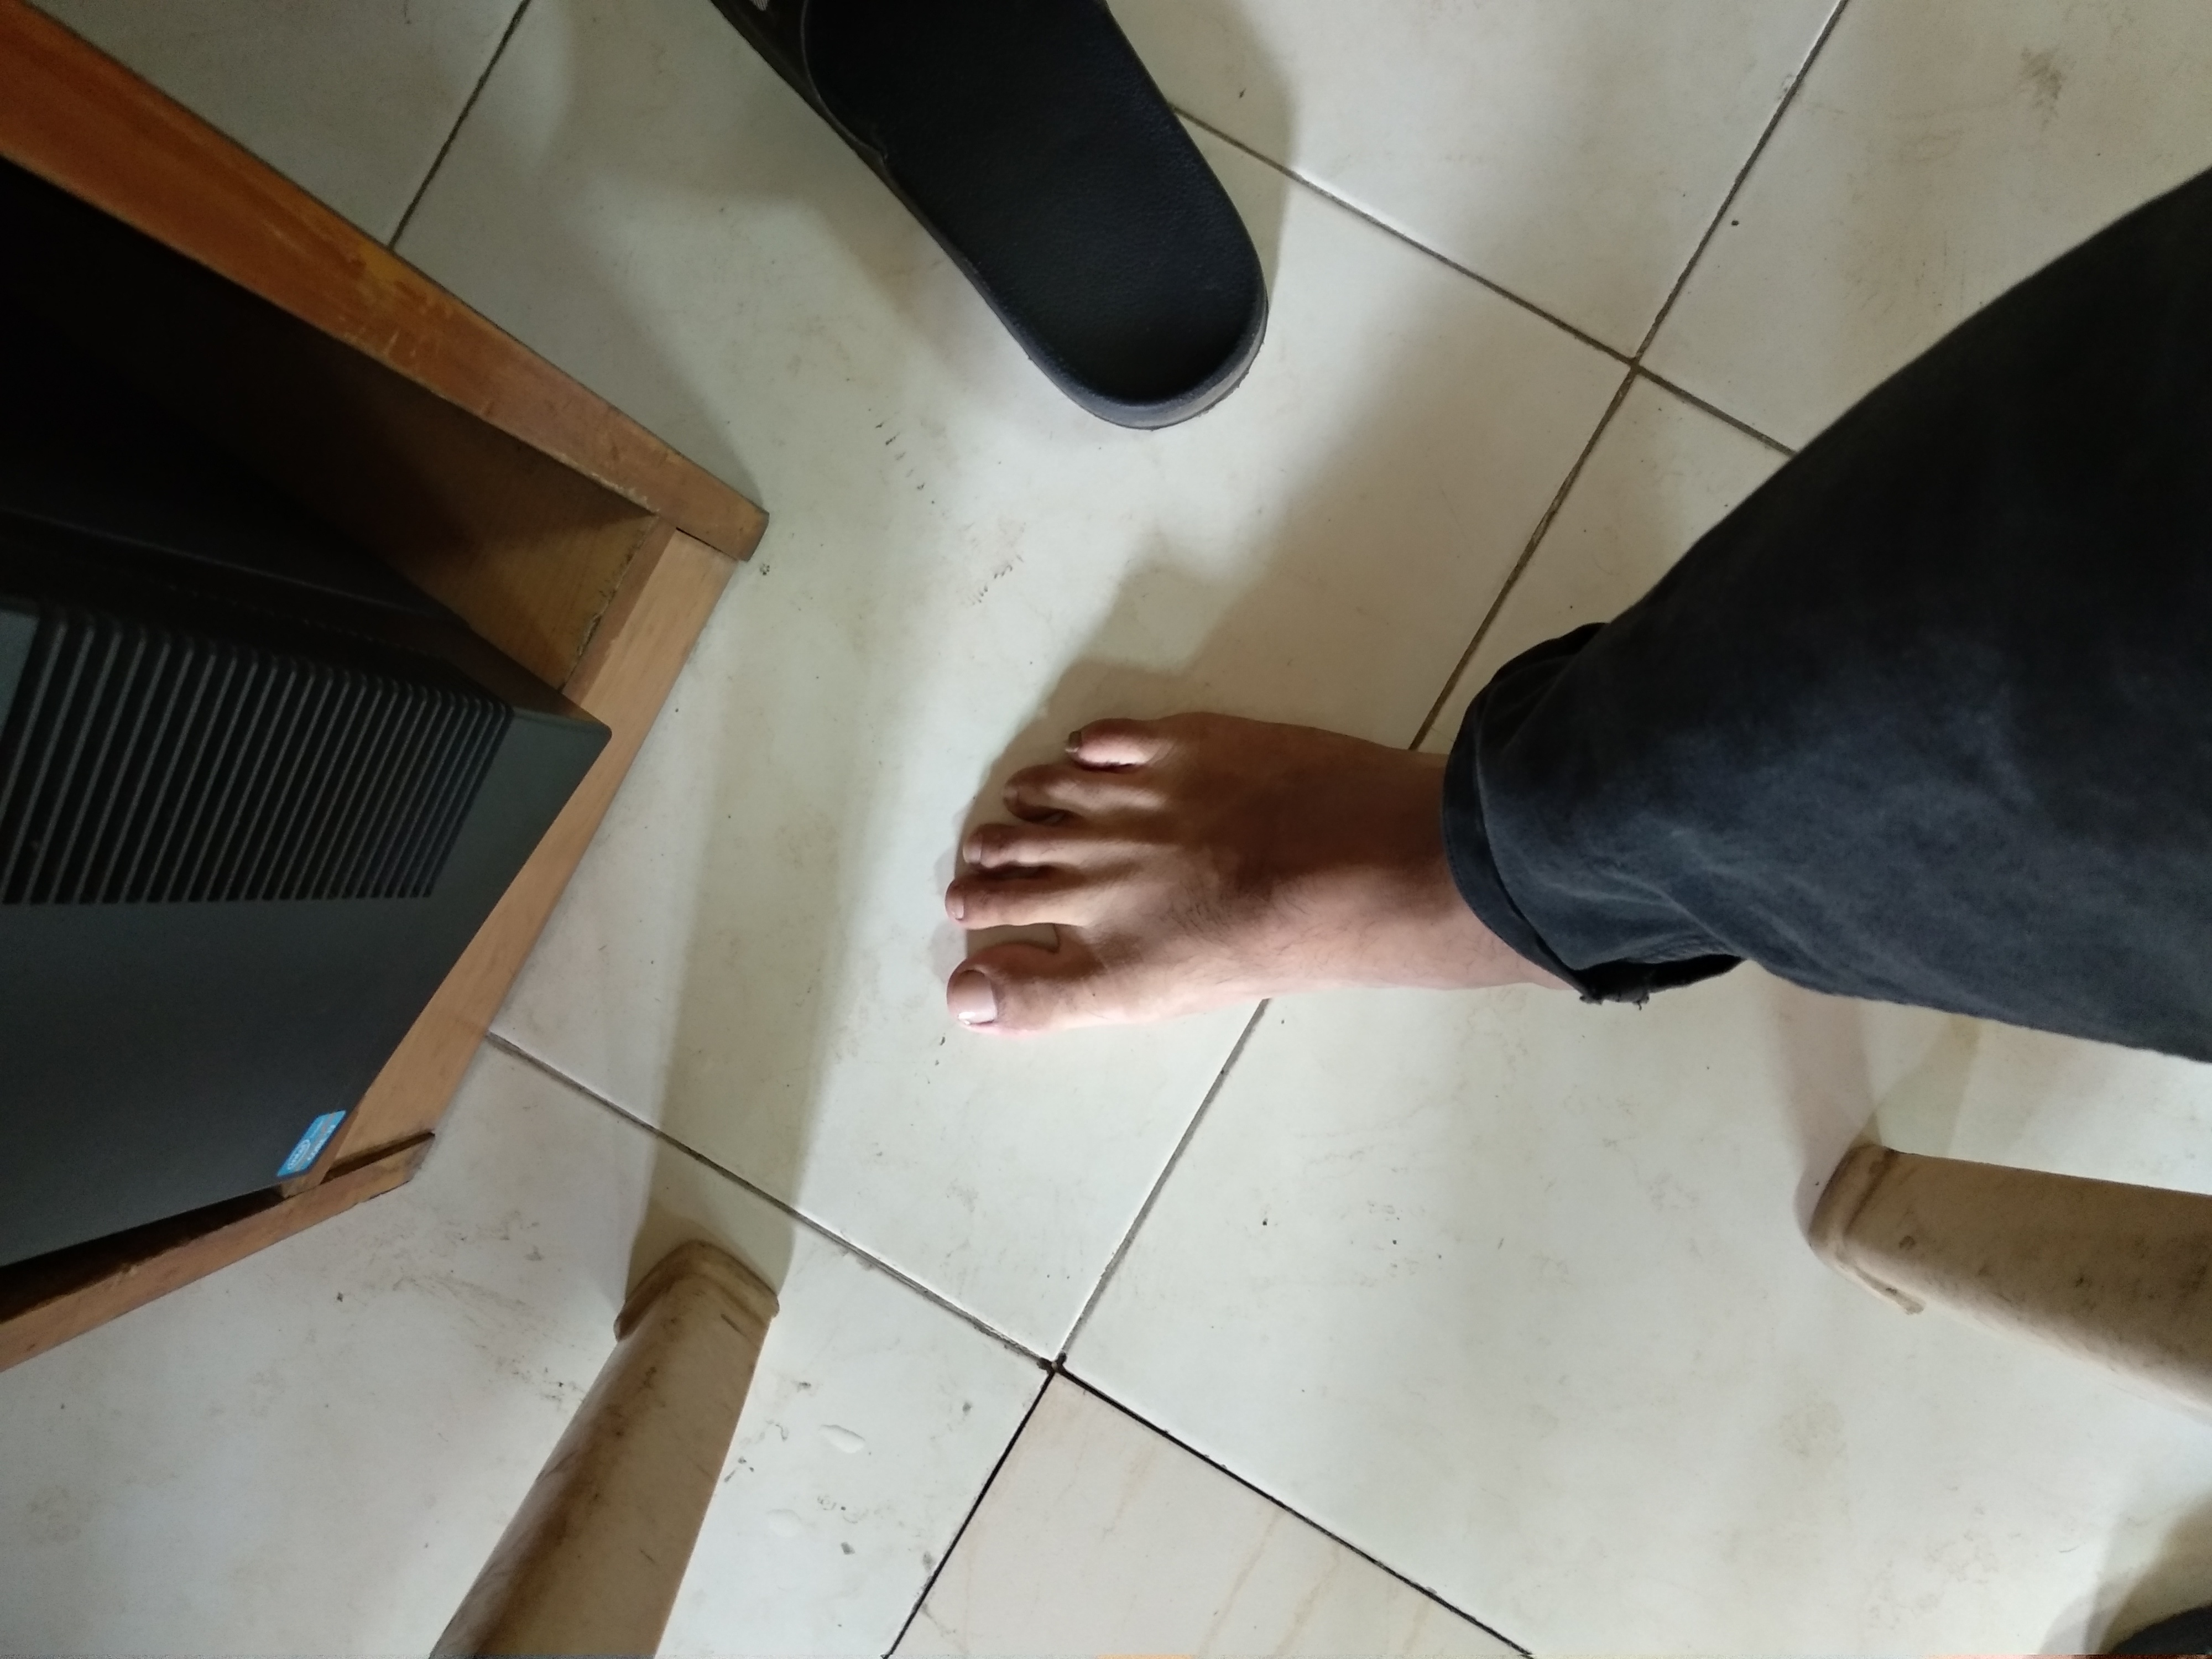feet: (782, 671, 1689, 1039)
